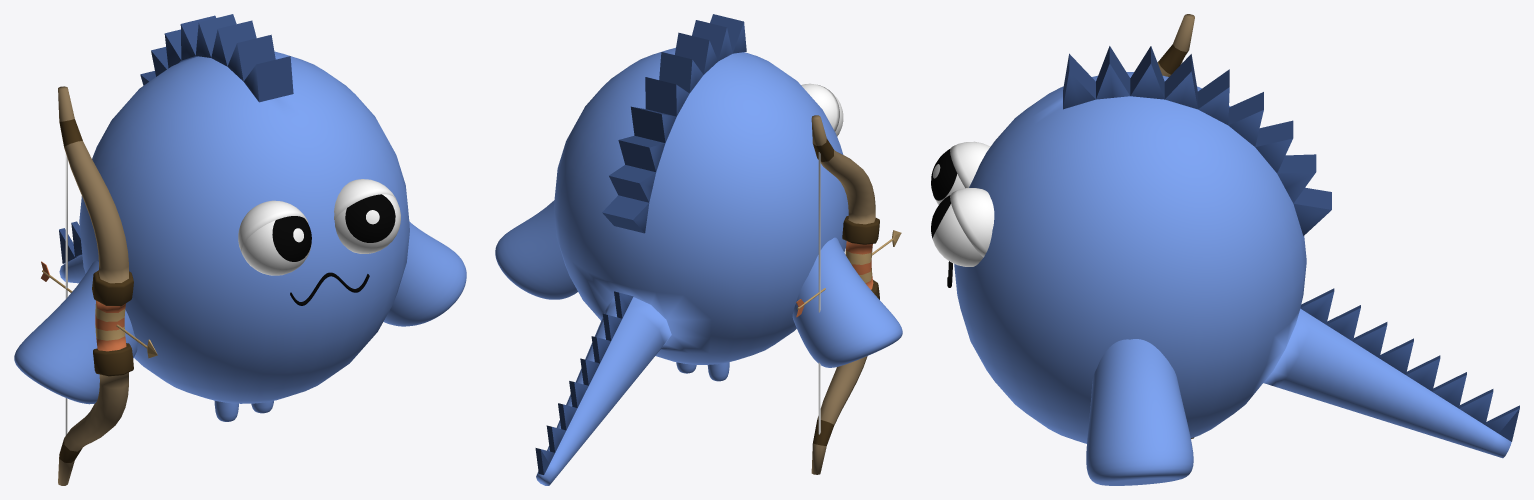
Rendered from DragonArcher.fbx.
3 renders of one model, left to right at view 1: azimuth 30°, elevation 25°; view 2: azimuth 150°, elevation 25°; view 3: azimuth 270°, elevation 25°, orthographic. The views are drawn at different scales.
Parts seen in each view (by area): view 1: Body, Arms, Bow, CombBody, Eyes, EyeBrow, Legs, CombTail; view 2: Body, Arms, CombBody, Bow, CombTail, EyeBrow, Legs; view 3: Body, Arms, CombBody, CombTail, EyeBrow, Eyes, Bow.
Part boxes in pixels (<box>): Body: <box>59,51,409,403</box>; Arms: <box>14,221,466,404</box>; Bow: <box>58,86,133,485</box>; CombBody: <box>140,14,293,102</box>; Eyes: <box>241,194,400,275</box>; EyeBrow: <box>238,179,396,255</box>; Legs: <box>214,401,273,421</box>; CombTail: <box>59,221,82,263</box>; Body: <box>536,47,848,485</box>; Arms: <box>495,200,902,367</box>; CombBody: <box>602,14,746,233</box>; Bow: <box>811,115,879,474</box>; CombTail: <box>535,291,633,474</box>; EyeBrow: <box>801,83,839,131</box>; Legs: <box>676,362,729,381</box>; Body: <box>954,72,1511,458</box>; Arms: <box>1086,339,1193,485</box>; CombBody: <box>1063,46,1331,235</box>; CombTail: <box>1300,288,1519,441</box>; EyeBrow: <box>950,141,994,257</box>; Eyes: <box>931,149,983,266</box>; Bow: <box>1157,14,1194,438</box>.
Bounding box in the file's own units: 306 × 290 × 334.
